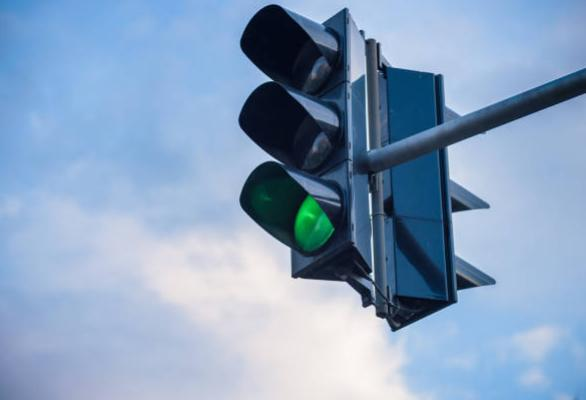green_light: (239, 4, 372, 280)
